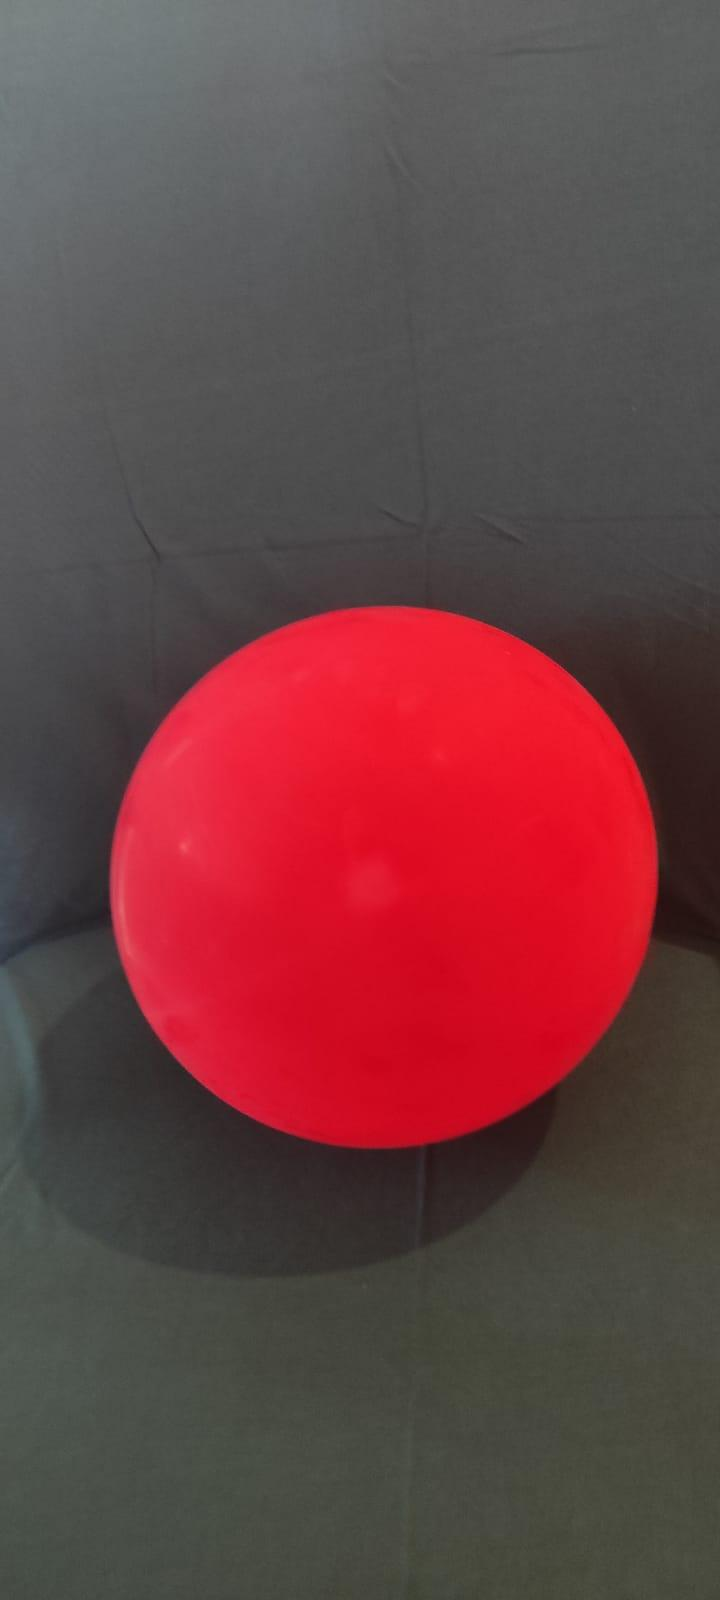red: (104, 591, 664, 1152)
